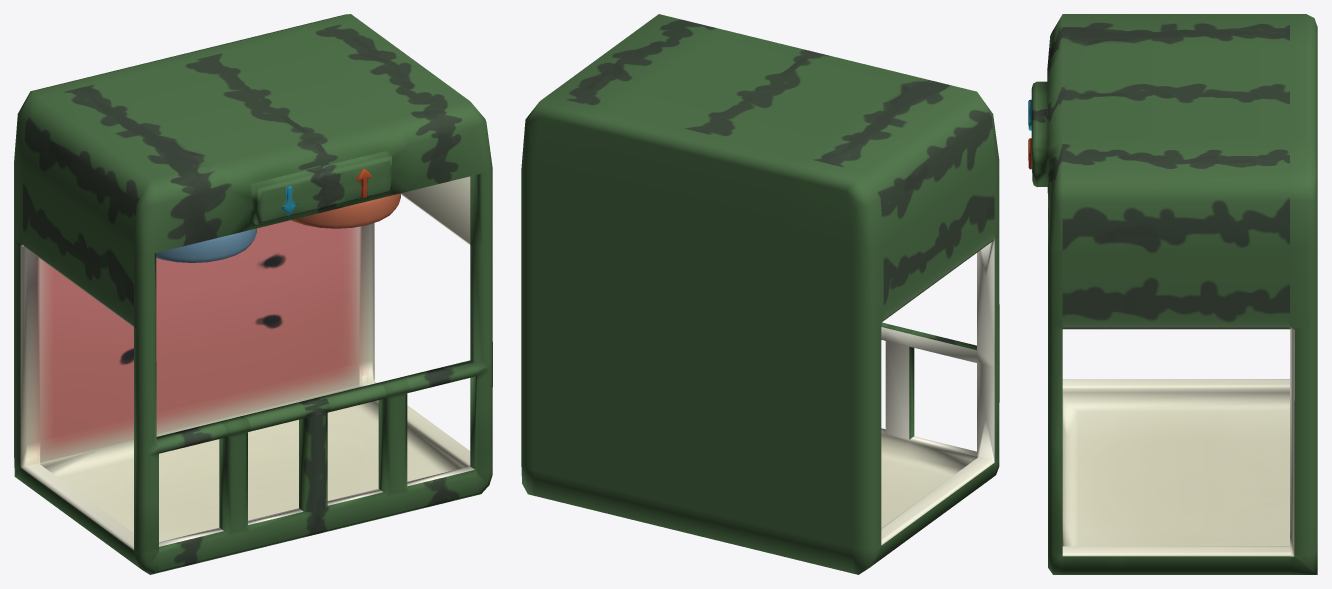
The model's file is elevator.fbx.
3 renders of one model, left to right at view 1: azimuth 30°, elevation 25°; view 2: azimuth 150°, elevation 25°; view 3: azimuth 270°, elevation 25°, orthographic. The views are drawn at different scales.
Parts seen in each view (by area): view 1: pCube1, button:aka1, button:ao1; view 2: pCube1; view 3: pCube1.
Boxes of the visible parts, left/top/right/bottom form: pCube1: left=14, top=14, right=492, bottom=574; button:aka1: left=291, top=193, right=400, bottom=228; button:ao1: left=156, top=228, right=256, bottom=262; pCube1: left=521, top=14, right=999, bottom=574; pCube1: left=1028, top=14, right=1317, bottom=574.
Bounding box in the file's own units: 45.56 × 48.09 × 31.63.
